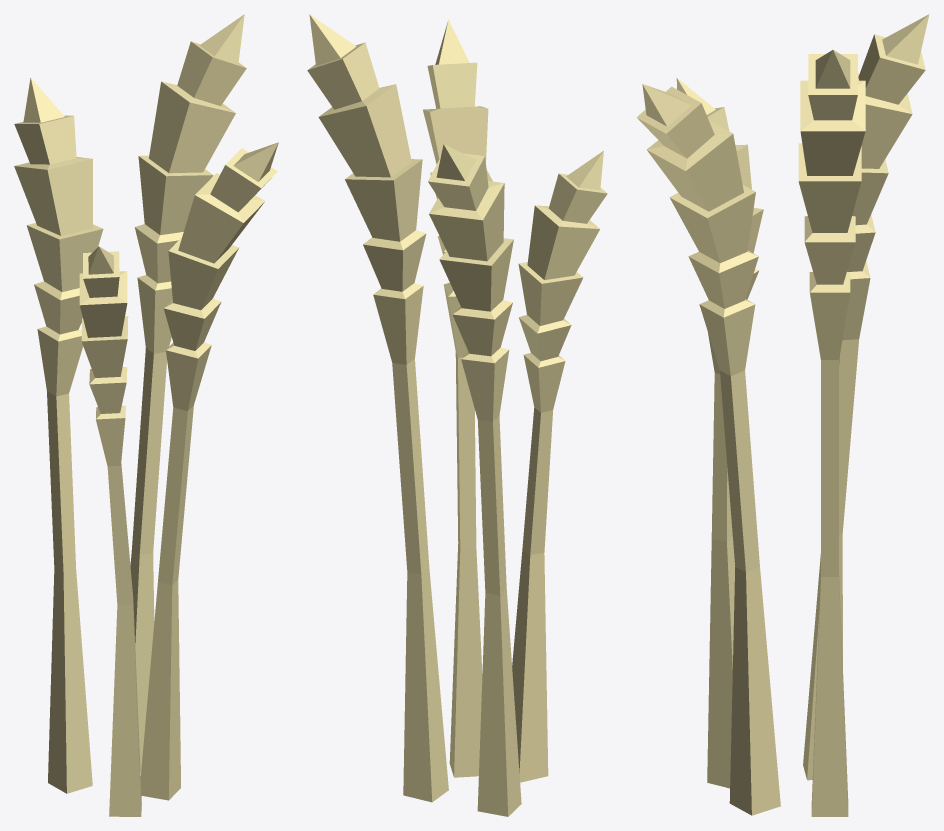
File: fruit_seed.glb
The picture shows the model from 3 angles, left to right: view 1: azimuth 30°, elevation 25°; view 2: azimuth 150°, elevation 25°; view 3: azimuth 270°, elevation 25°; orthographic projection. The views are drawn at different scales.
Parts seen in each view (by area): view 1: Wheat; view 2: Wheat; view 3: Wheat.
Part boxes in pixels (bbox=[...]): Wheat: bbox=[14, 14, 278, 816]; Wheat: bbox=[307, 14, 607, 816]; Wheat: bbox=[636, 14, 929, 816].
Size of the model in its own units: 51.94 by 160 by 51.75.
